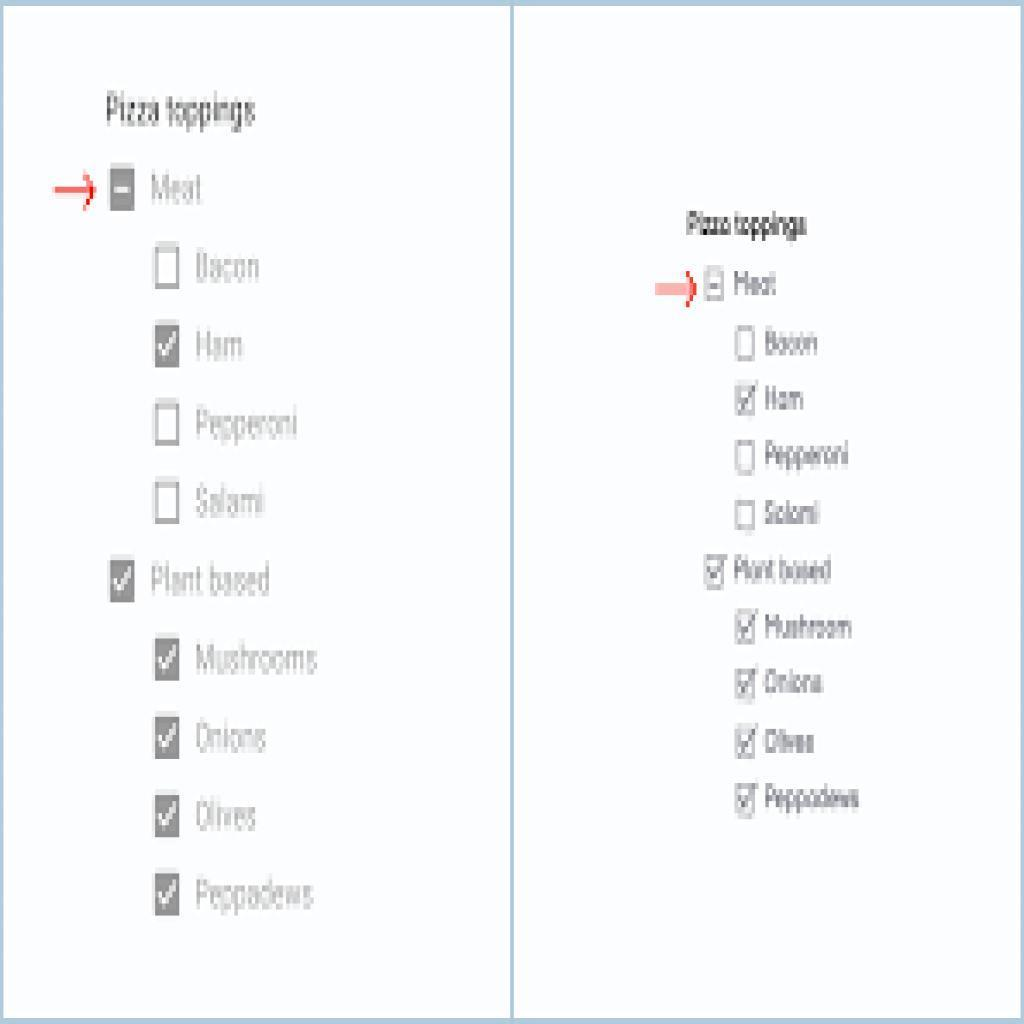checkbox: (154, 873, 182, 917), (155, 482, 182, 526), (155, 246, 181, 290), (156, 716, 182, 760), (156, 324, 181, 369), (154, 793, 180, 836), (156, 403, 181, 446), (156, 638, 181, 680), (735, 609, 758, 646), (735, 783, 758, 818), (734, 727, 759, 757), (737, 441, 757, 478), (736, 384, 757, 417), (737, 326, 755, 363), (737, 501, 757, 531)
